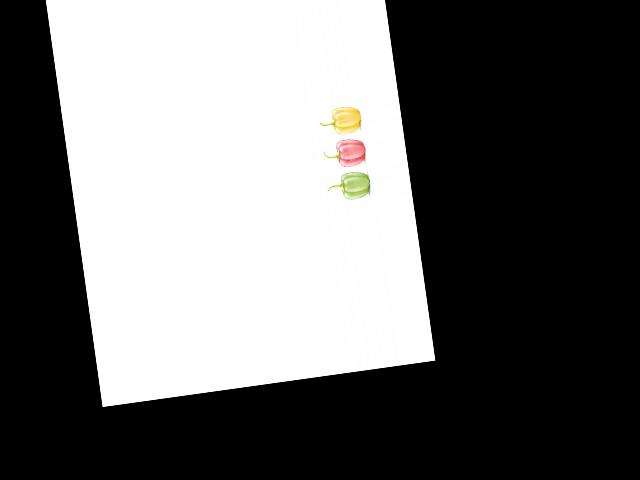bell_pepper: (326, 169, 374, 205)
